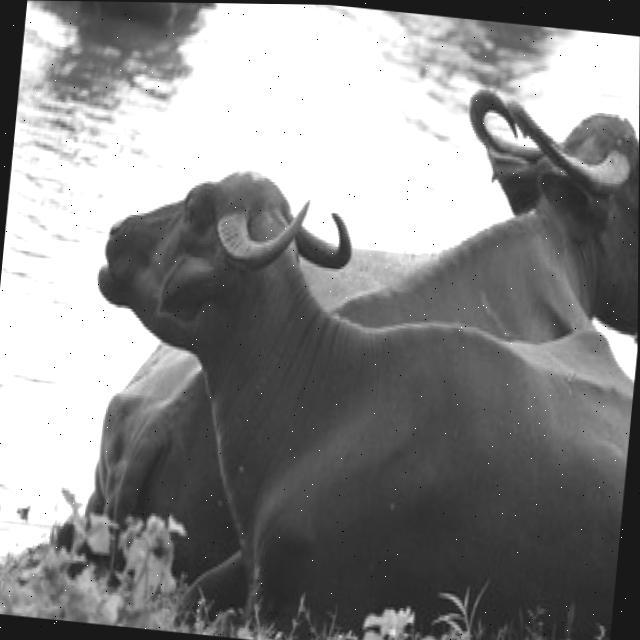Buffalo: (46, 154, 639, 640)
